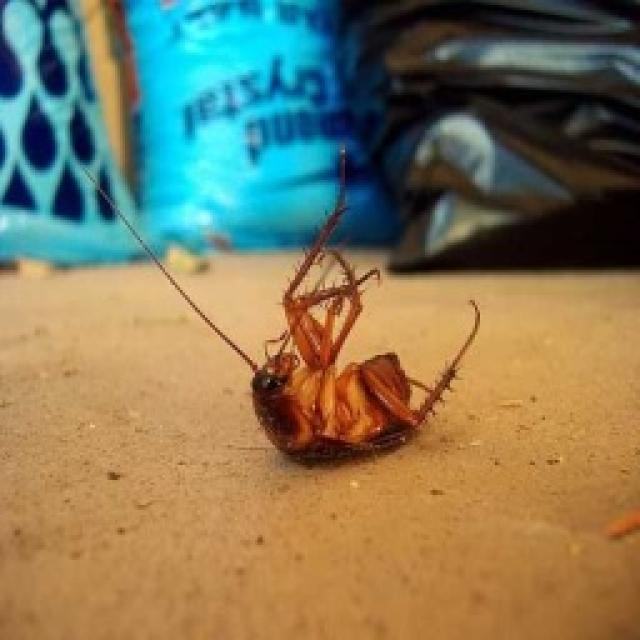cockroach: (199, 268, 476, 498)
